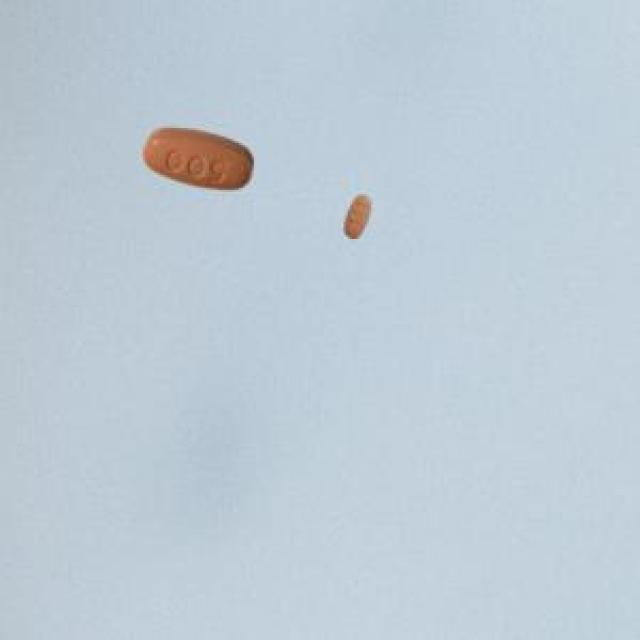Biogesic: (124, 108, 260, 210), (324, 174, 385, 257)
